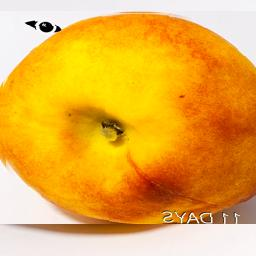Peach Semifresh: (0, 11, 256, 224)
